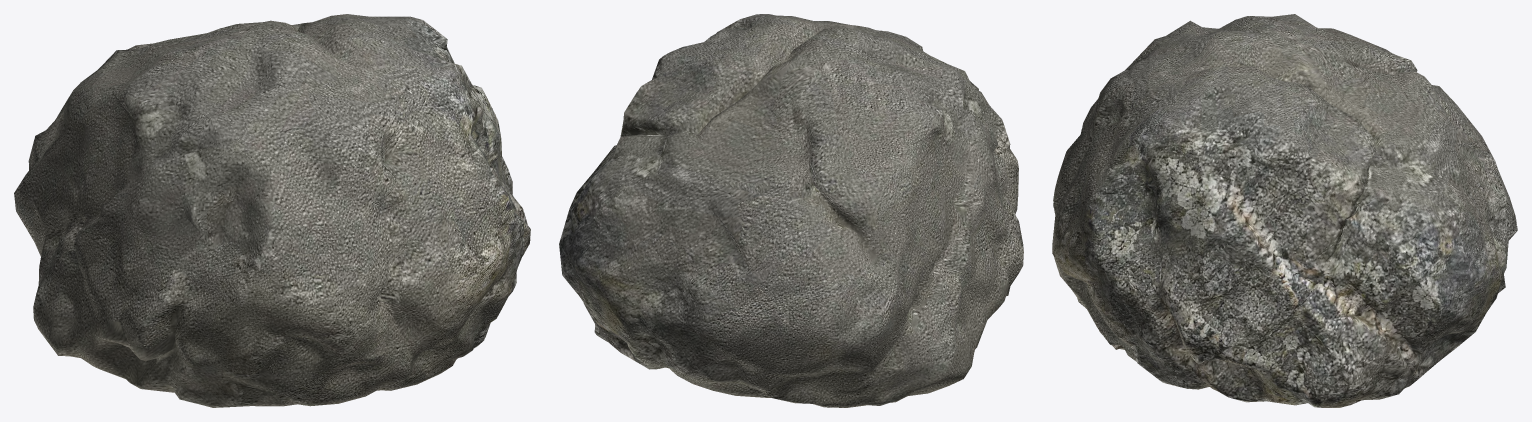
The model's file is boulder.glb.
3 views of the same model, side by side, from view 1: azimuth 30°, elevation 25°; view 2: azimuth 150°, elevation 25°; view 3: azimuth 270°, elevation 25° (orthographic). The views are drawn at different scales.
Parts seen in each view (by area): view 1: tripo_node_2a971b0f-f2ad-4d71-ab9c-84d7d906d0dc; view 2: tripo_node_2a971b0f-f2ad-4d71-ab9c-84d7d906d0dc; view 3: tripo_node_2a971b0f-f2ad-4d71-ab9c-84d7d906d0dc.
Boxes of the visible parts, x1,y1,x2,y2 form: tripo_node_2a971b0f-f2ad-4d71-ab9c-84d7d906d0dc: (14,14,530,407); tripo_node_2a971b0f-f2ad-4d71-ab9c-84d7d906d0dc: (559,14,1023,407); tripo_node_2a971b0f-f2ad-4d71-ab9c-84d7d906d0dc: (1052,14,1517,407).
Bounding box in the file's own units: 0.9344 × 0.6933 × 1.
1 material, 1 textured.
